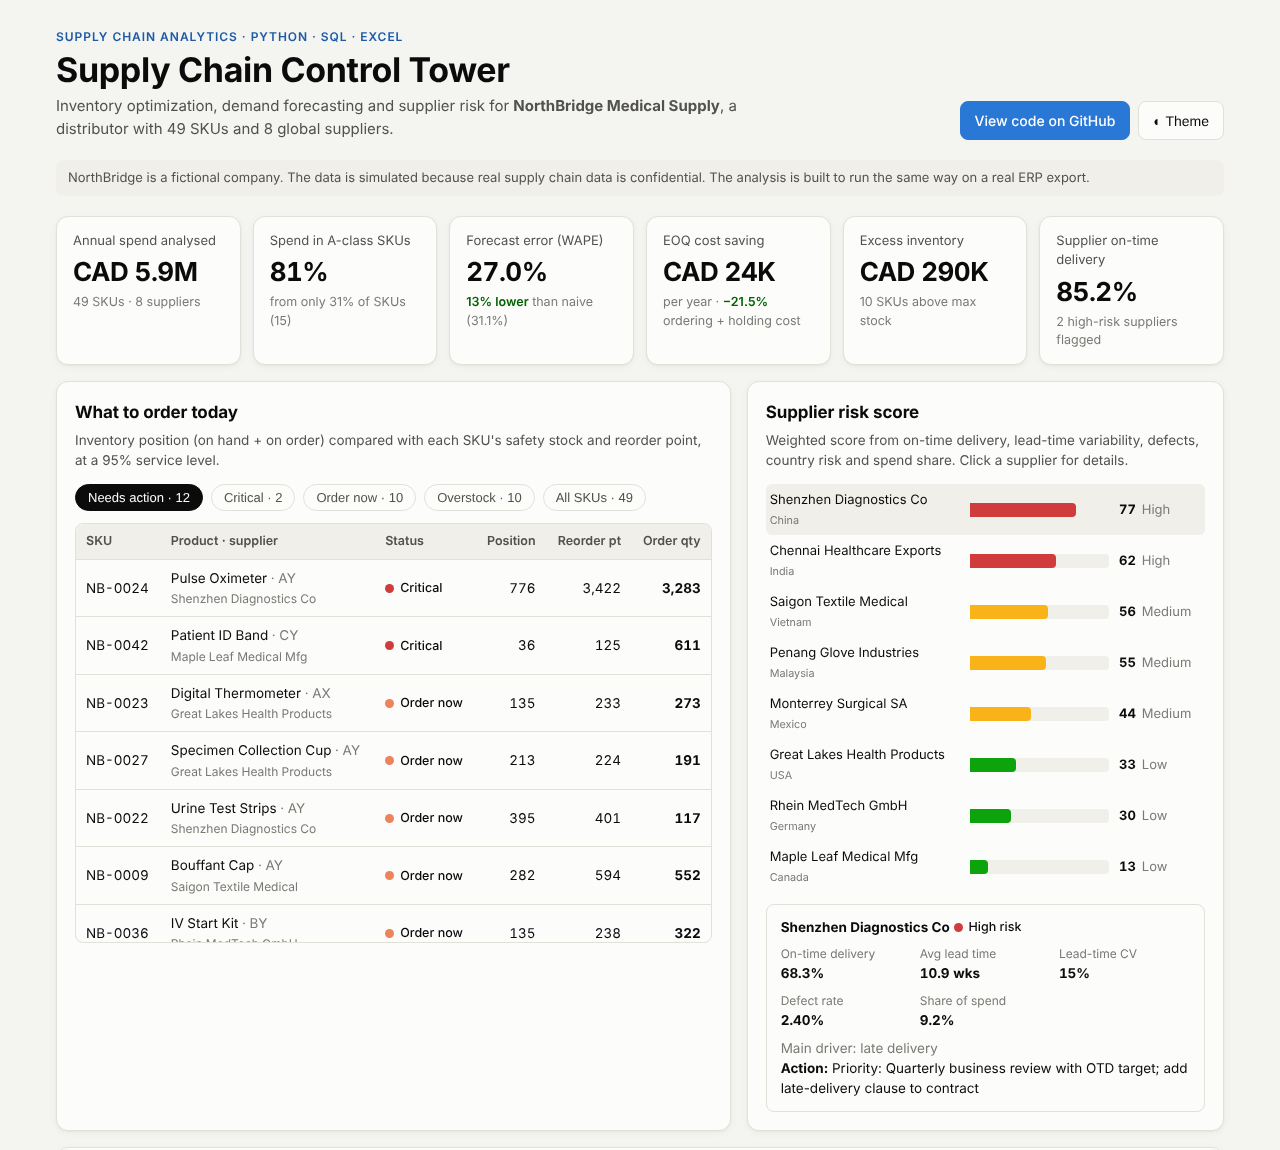

Layout of this report page (visuals, bound fields, positions):
{"tool":"powerbi","page":{"name":"Overview","canvas":[1280,720],"ordinal":0},"visuals":[{"type":"textbox","box":[20,8,1240,64],"z":1000},{"type":"card","fields":{"Values":["_Measures.Annual Spend Total"]},"box":[20,80,195,100],"z":2000},{"type":"card","fields":{"Values":["_Measures.A-Class Share of Spend"]},"box":[229,80,195,100],"z":3000},{"type":"card","fields":{"Values":["_Measures.SKUs to Order"]},"box":[438,80,195,100],"z":4000},{"type":"card","fields":{"Values":["_Measures.EOQ Annual Saving"]},"box":[647,80,195,100],"z":5000},{"type":"card","fields":{"Values":["_Measures.Excess Inventory Value"]},"box":[856,80,195,100],"z":6000},{"type":"card","fields":{"Values":["_Measures.On-Time Delivery %"]},"box":[1065,80,195,100],"z":7000},{"type":"clusteredBarChart","title":"SKUs by inventory status","fields":{"Category":["Status List.Status"],"Y":["_Measures.SKUs in Status"]},"box":[20,195,390,255],"z":8000},{"type":"clusteredBarChart","title":"Supplier risk score (0-100)","fields":{"Category":["suppliers.supplier_name"],"Y":["_Measures.Risk Score"]},"box":[424,195,470,255],"z":9000},{"type":"pivotTable","title":"ABC-XYZ segmentation (SKU count)","fields":{"Columns":["products.XYZ"],"Rows":["products.ABC"],"Values":["_Measures.SKU Count"]},"box":[908,195,352,255],"z":10000},{"type":"slicer","fields":{"Values":["products.category"]},"box":[20,464,280,110],"z":11000},{"type":"slicer","fields":{"Values":["suppliers.country"]},"box":[20,588,280,110],"z":12000},{"type":"tableEx","title":"What to order today (largest orders first)","fields":{"Values":["products.sku","products.product_name","_Measures.Inventory Status","products.Inventory Position","_Measures.Reorder Point","_Measures.Suggested Order Qty"]},"box":[314,464,946,234],"z":13000}]}

Visuals, with their boxes on the page's 1280x720 design canvas (x1, y1, x2, y2). These are canvas units, not pixel positions in the 1280x1150 screenshot, which may show the page scaled, cropped or inside an application window:
textbox: bbox=(20, 8, 1260, 72)
card - _Measures.Annual Spend Total: bbox=(20, 80, 215, 180)
card - _Measures.A-Class Share of Spend: bbox=(229, 80, 424, 180)
card - _Measures.SKUs to Order: bbox=(438, 80, 633, 180)
card - _Measures.EOQ Annual Saving: bbox=(647, 80, 842, 180)
card - _Measures.Excess Inventory Value: bbox=(856, 80, 1051, 180)
card - _Measures.On-Time Delivery %: bbox=(1065, 80, 1260, 180)
"SKUs by inventory status" clusteredBarChart: bbox=(20, 195, 410, 450)
"Supplier risk score (0-100)" clusteredBarChart: bbox=(424, 195, 894, 450)
"ABC-XYZ segmentation (SKU count)" pivotTable: bbox=(908, 195, 1260, 450)
slicer - products.category: bbox=(20, 464, 300, 574)
slicer - suppliers.country: bbox=(20, 588, 300, 698)
"What to order today (largest orders first)" tableEx: bbox=(314, 464, 1260, 698)
